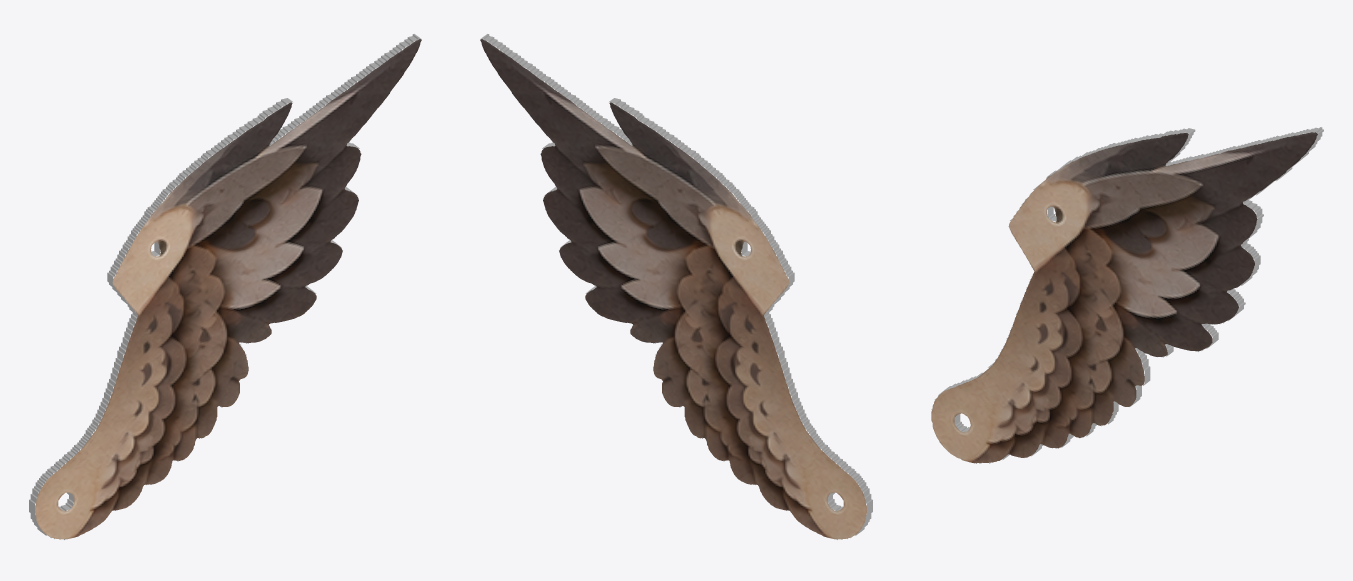
File: RootRight.glb
The picture shows the model from 3 angles, left to right: view 1: azimuth 30°, elevation 25°; view 2: azimuth 150°, elevation 25°; view 3: azimuth 330°, elevation 25°; orthographic projection.
Parts seen in each view (by area): view 1: PaperVolume; view 2: PaperVolume; view 3: PaperVolume.
Part boxes in pixels (x1=…): PaperVolume: x1=29, y1=34, x2=421, y2=539; PaperVolume: x1=480, y1=34, x2=872, y2=539; PaperVolume: x1=931, y1=127, x2=1323, y2=463.
Size of the model in its own units: 3.33 by 3.41 by 0.08.
Materials: 3 (2 with a texture image).
